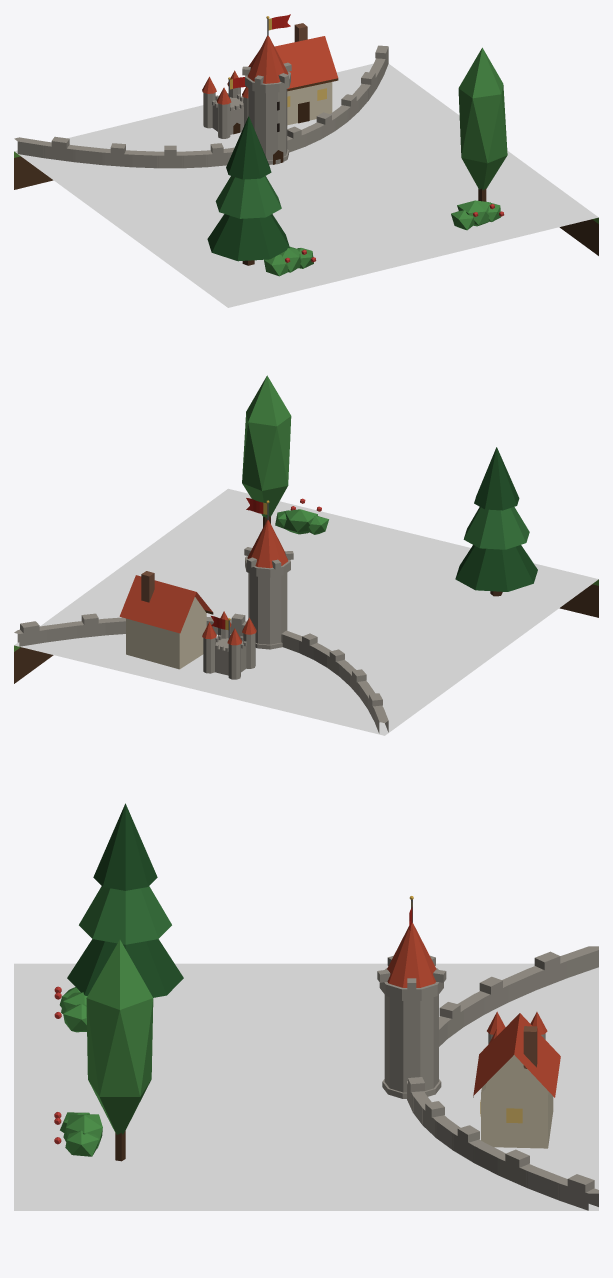
Rendered from xcfrf.glb.
3 views of the same model, one above another, from view 1: azimuth 30°, elevation 25°; view 2: azimuth 150°, elevation 25°; view 3: azimuth 270°, elevation 25° (orthographic). The views are drawn at different scales.
Parts seen in each view (by area): view 1: xcfrf; view 2: xcfrf; view 3: xcfrf.
Boxes of the visible parts, x1,y1,x2,y2 form: xcfrf: [14, 14, 598, 307]; xcfrf: [14, 375, 598, 735]; xcfrf: [14, 803, 598, 1210].
Size of the model in its own units: 2 by 1.03 by 2.
